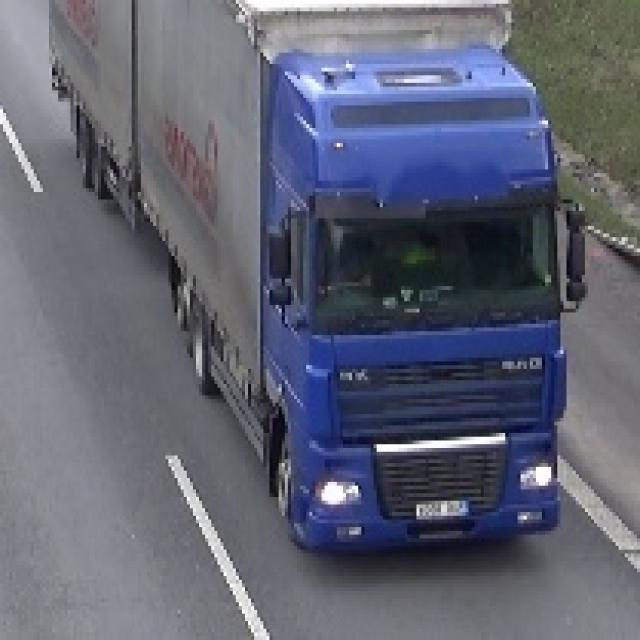TRUCK: (47, 0, 588, 561)
